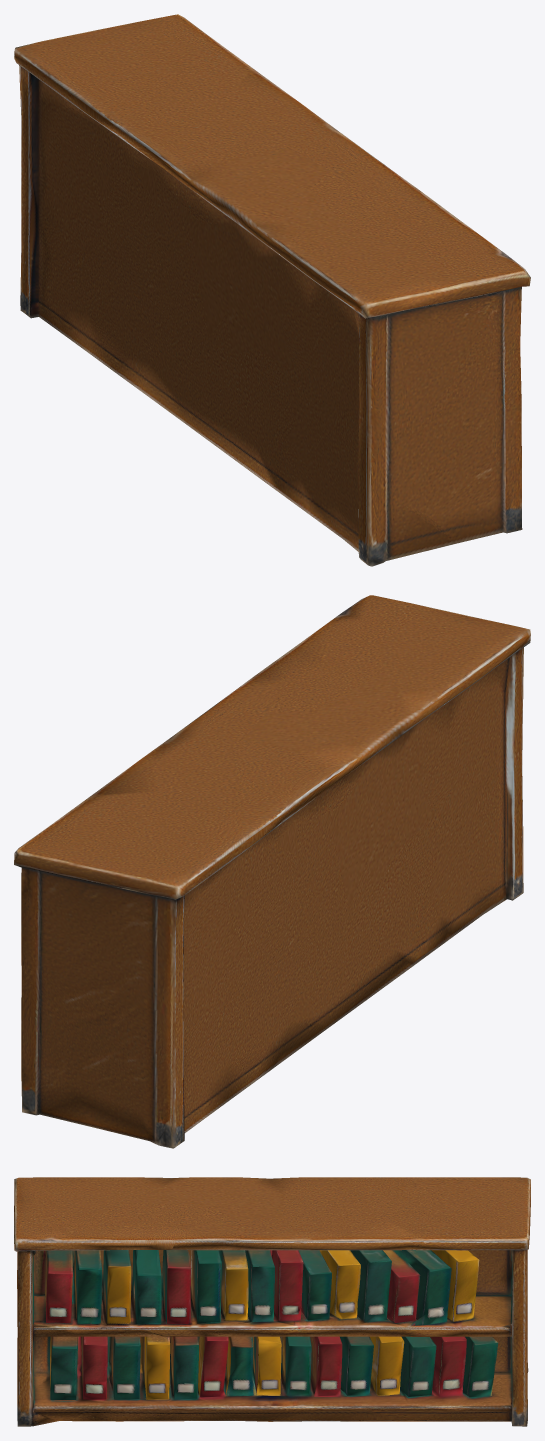
The model's file is BinderShelf.fbx.
3 renders of one model, top to bottom at view 1: azimuth 30°, elevation 25°; view 2: azimuth 150°, elevation 25°; view 3: azimuth 270°, elevation 25°, orthographic. The views are drawn at different scales.
Parts seen in each view (by area): view 1: tripo_node_9e9d9854-9914-434c-bc48-2d33bbf6a016; view 2: tripo_node_9e9d9854-9914-434c-bc48-2d33bbf6a016; view 3: tripo_node_9e9d9854-9914-434c-bc48-2d33bbf6a016.
Boxes of the visible parts, x1,y1,x2,y2 form: tripo_node_9e9d9854-9914-434c-bc48-2d33bbf6a016: (14, 14, 530, 566); tripo_node_9e9d9854-9914-434c-bc48-2d33bbf6a016: (14, 595, 530, 1148); tripo_node_9e9d9854-9914-434c-bc48-2d33bbf6a016: (14, 1177, 530, 1426).
Bounding box in the file's own units: 27.44 × 41.46 × 100.
Materials: 1 (1 with a texture image).
